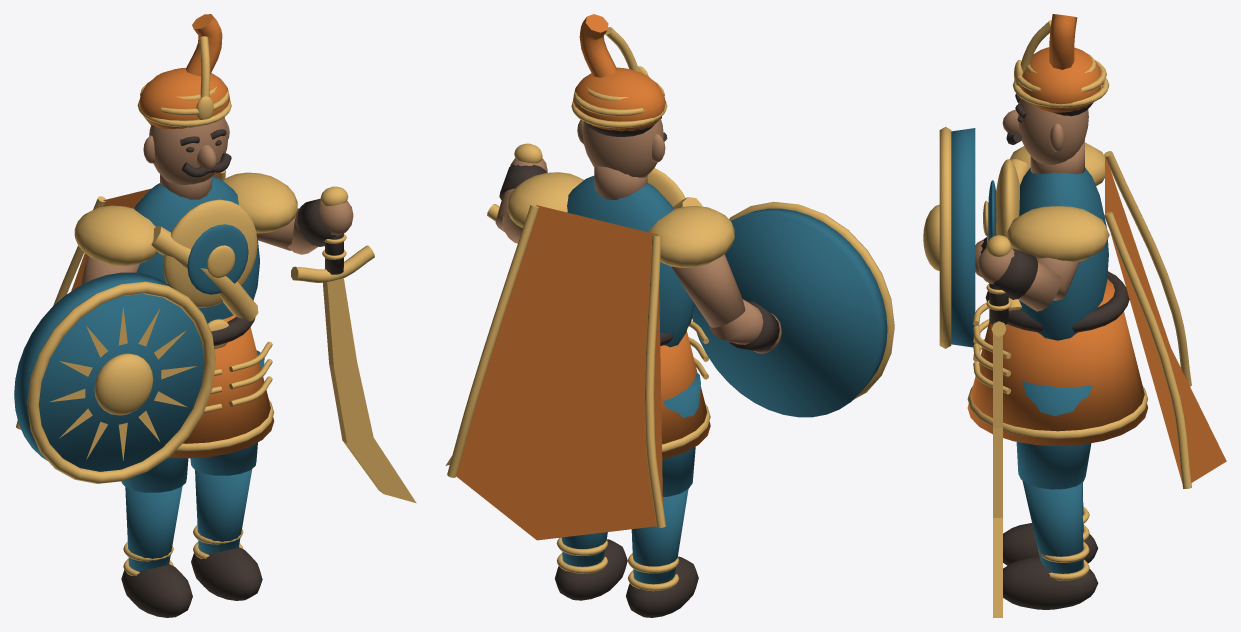
Rendered from veer.glb.
3 views of the same model, side by side, from view 1: azimuth 30°, elevation 25°; view 2: azimuth 150°, elevation 25°; view 3: azimuth 270°, elevation 25° (orthographic). The views are drawn at different scales.
Parts seen in each view (by area): view 1: veer; view 2: veer; view 3: veer.
Part boxes in pixels (box(x1,y1,x2,y2)): veer: box(14, 14, 416, 617); veer: box(445, 14, 894, 617); veer: box(923, 14, 1226, 617).
Size of the model in its own units: 1.49 by 1.98 by 0.9276.
